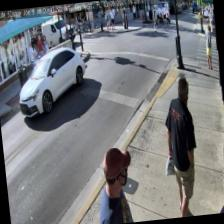person: (160, 76, 203, 218), (92, 146, 137, 224)
